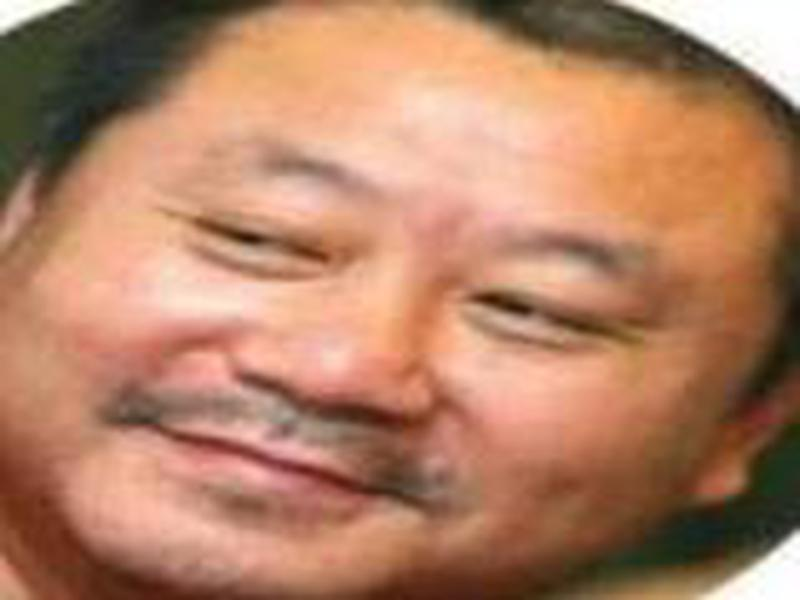without_mask: (12, 8, 791, 600)
